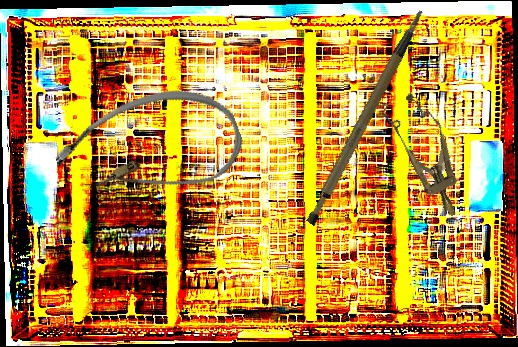Cannula: (46, 69, 252, 229)
Scalpel Handle: (278, 8, 457, 229)
Speculum: (377, 86, 477, 226)
